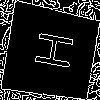H: (25, 28, 74, 71)
